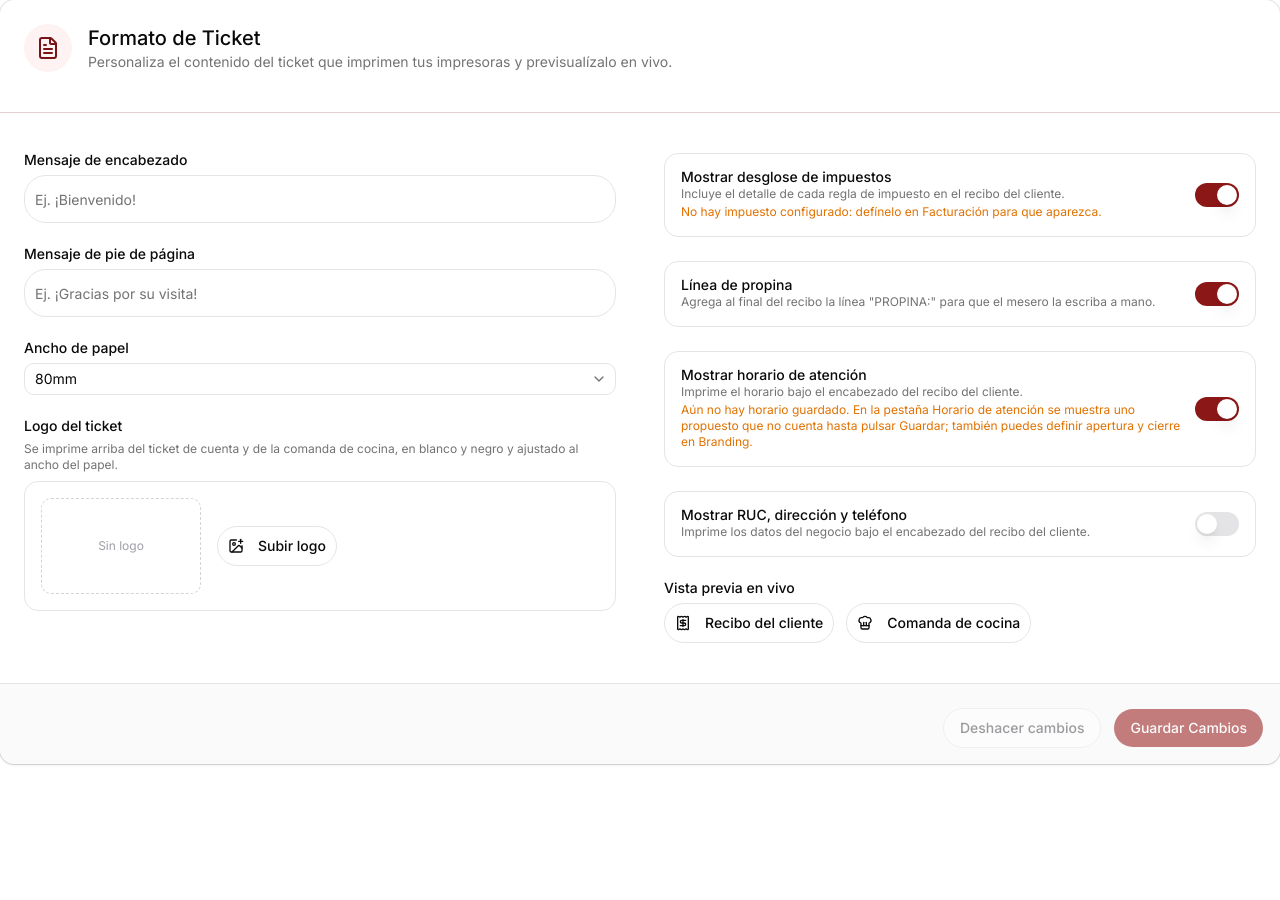
Test: TicketSettings previews › the customer receipt preview has no logo image when none is set
Click the button "Recibo del cliente" at (749, 623), box [664, 603, 834, 643]
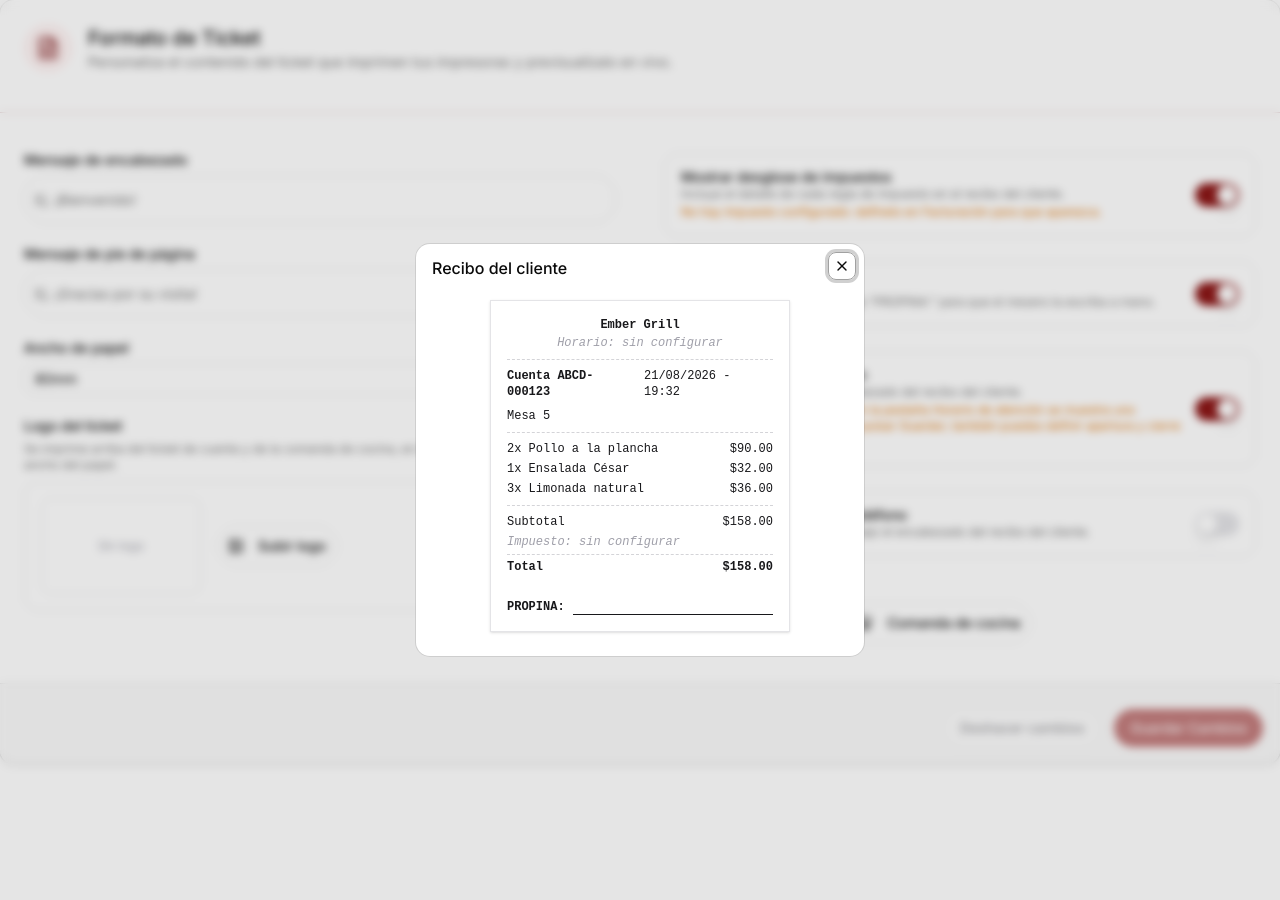
Check: the text "Ember Grill" is shown, box [600, 318, 680, 332]
